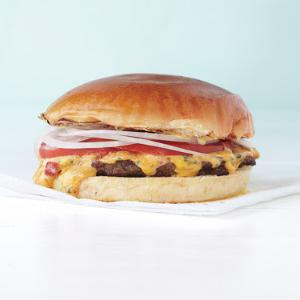cheeseburger: (27, 66, 261, 211)
